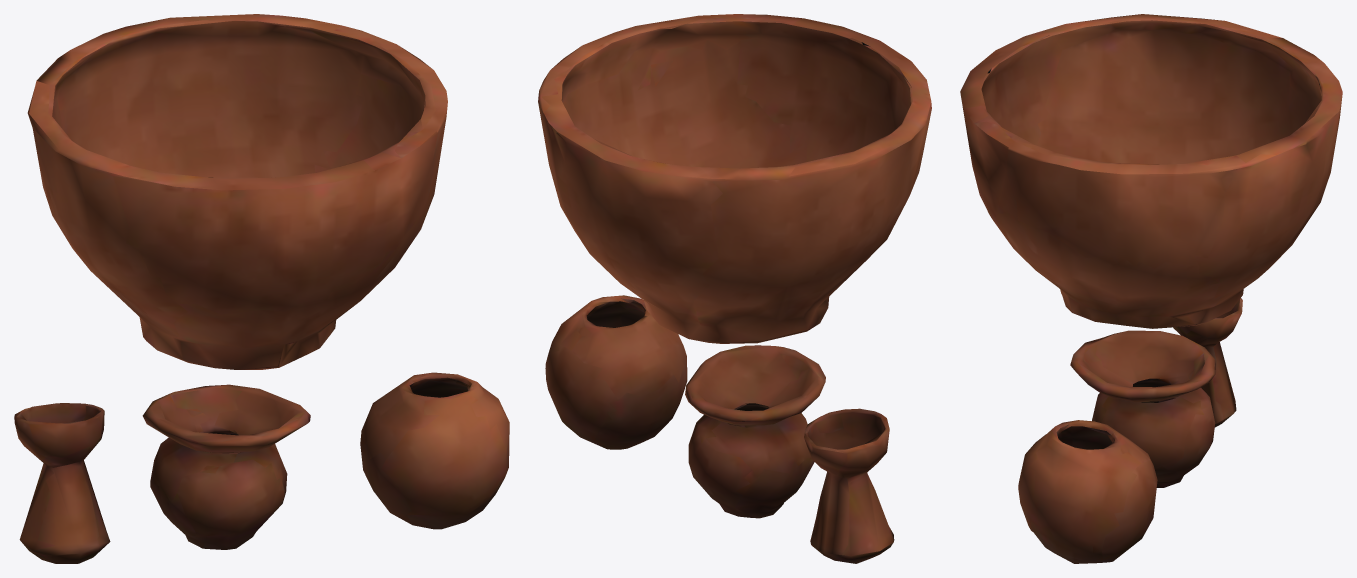
File: sturdy-terracotta-basin-v001.glb
The picture shows the model from 3 angles, left to right: view 1: azimuth 30°, elevation 25°; view 2: azimuth 150°, elevation 25°; view 3: azimuth 270°, elevation 25°; orthographic projection. The views are drawn at different scales.
Parts seen in each view (by area): view 1: sturdy-terracotta-basin; view 2: sturdy-terracotta-basin; view 3: sturdy-terracotta-basin.
Boxes of the visible parts, left/top/right/bottom form: sturdy-terracotta-basin: left=14, top=14, right=509, bottom=563; sturdy-terracotta-basin: left=538, top=14, right=931, bottom=563; sturdy-terracotta-basin: left=960, top=14, right=1342, bottom=563.
Size of the model in its own units: 0.328 by 0.3296 by 0.2883.
1 material, 1 textured.
